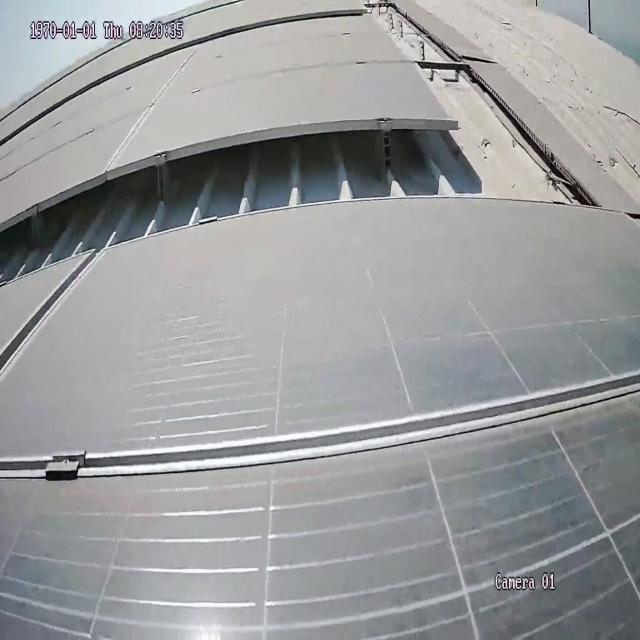interior panel: (3, 362, 636, 492), (103, 63, 189, 163), (0, 277, 81, 375)
outher panel: (1, 6, 634, 284)
